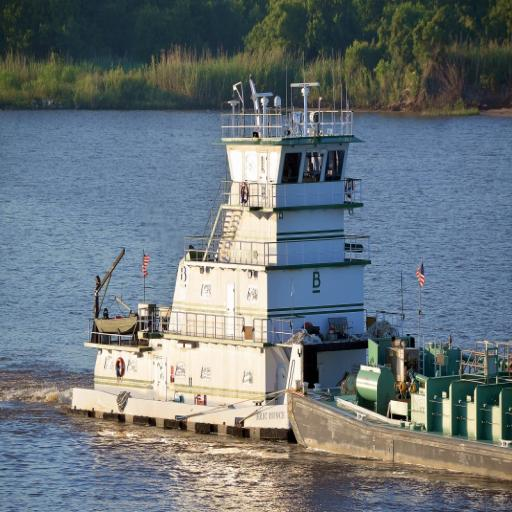tugboat: (65, 73, 420, 457)
